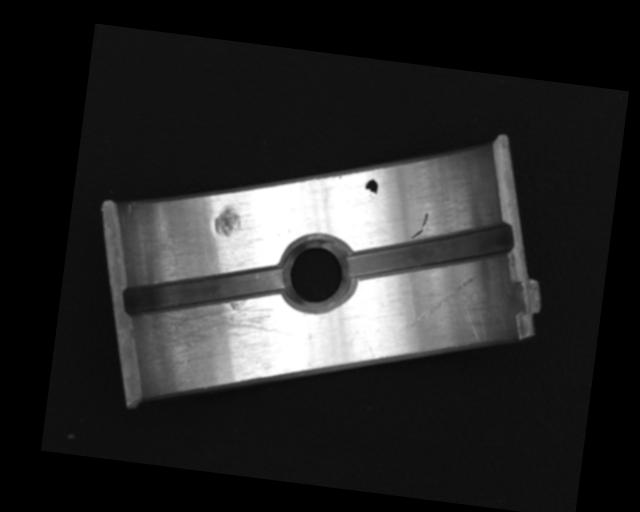blot: (362, 177, 379, 200)
bruise: (212, 204, 244, 240)
gap: (346, 203, 514, 296), (121, 247, 290, 333)
hole: (276, 233, 356, 316)
nick: (404, 265, 480, 340), (410, 209, 429, 241)
scratch: (125, 284, 302, 384)
